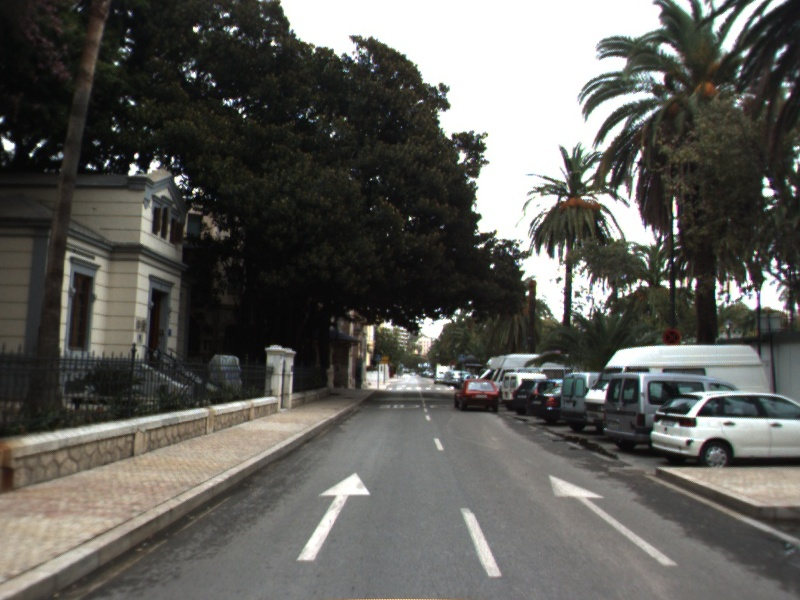STRAIGHT: (547, 473, 681, 568), (295, 470, 372, 562)
